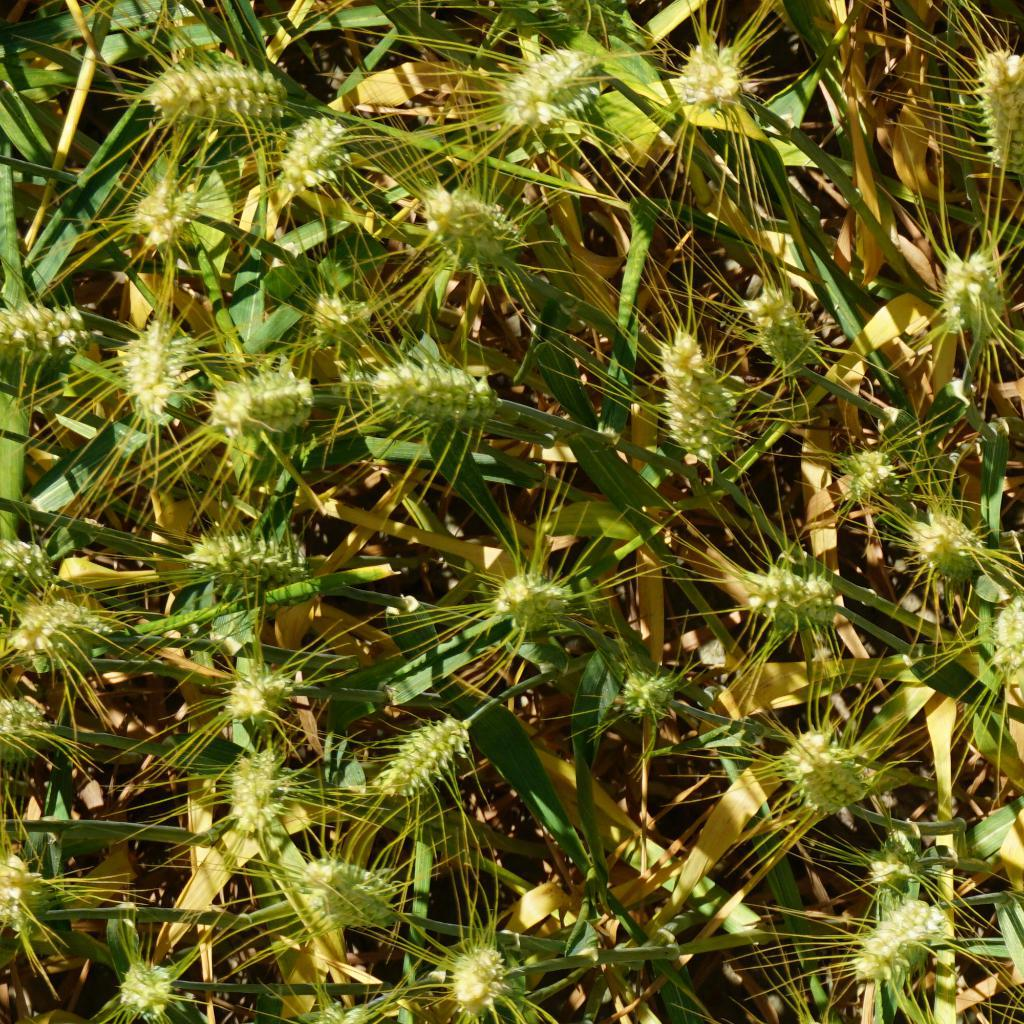0-0: (648, 329, 736, 462), (130, 60, 284, 131), (423, 186, 529, 281), (360, 359, 499, 431), (177, 519, 310, 587), (271, 105, 368, 196), (372, 713, 470, 798), (492, 42, 593, 118), (969, 44, 1024, 180), (739, 562, 846, 631), (212, 361, 309, 436), (859, 899, 940, 986), (932, 244, 1007, 337), (750, 283, 828, 371), (297, 857, 393, 924), (113, 320, 185, 409), (896, 506, 979, 581), (7, 604, 120, 657), (0, 302, 92, 364), (442, 936, 514, 1009), (130, 176, 203, 243), (672, 46, 745, 112), (220, 755, 281, 832), (0, 853, 52, 940), (487, 568, 567, 624), (303, 287, 374, 347), (219, 664, 290, 724), (613, 655, 680, 718), (119, 964, 174, 1024), (990, 589, 1024, 682), (803, 760, 866, 810), (0, 701, 52, 760), (783, 725, 837, 776), (0, 531, 51, 584), (870, 836, 920, 887), (841, 447, 892, 496)
